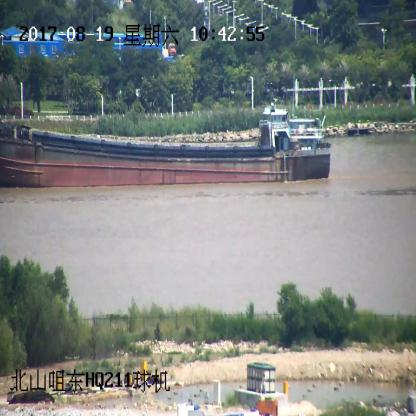Bulk Carrier: (0, 102, 330, 187)
